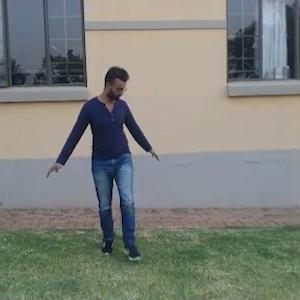land: (47, 58, 181, 258)
